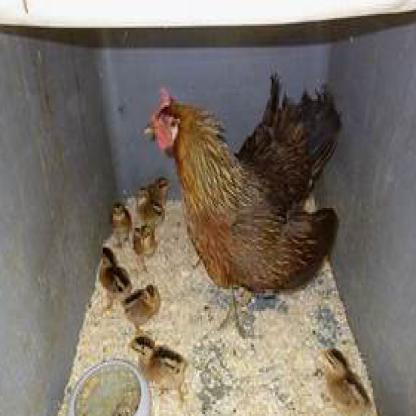chicken: (141, 73, 340, 337)
